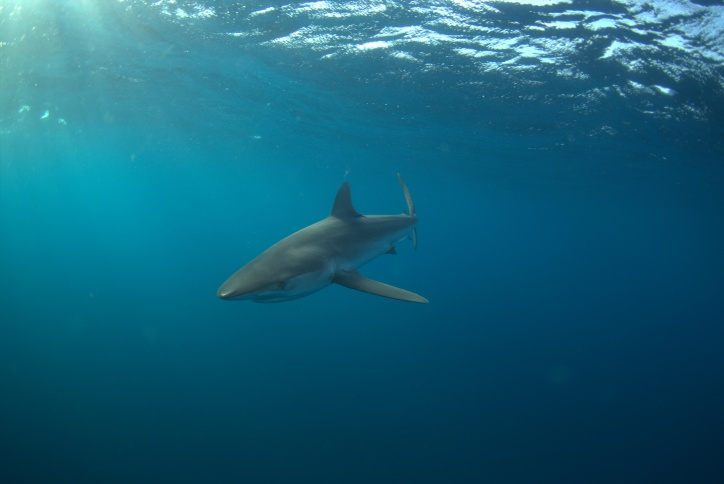Sedoso: (188, 165, 467, 332)
